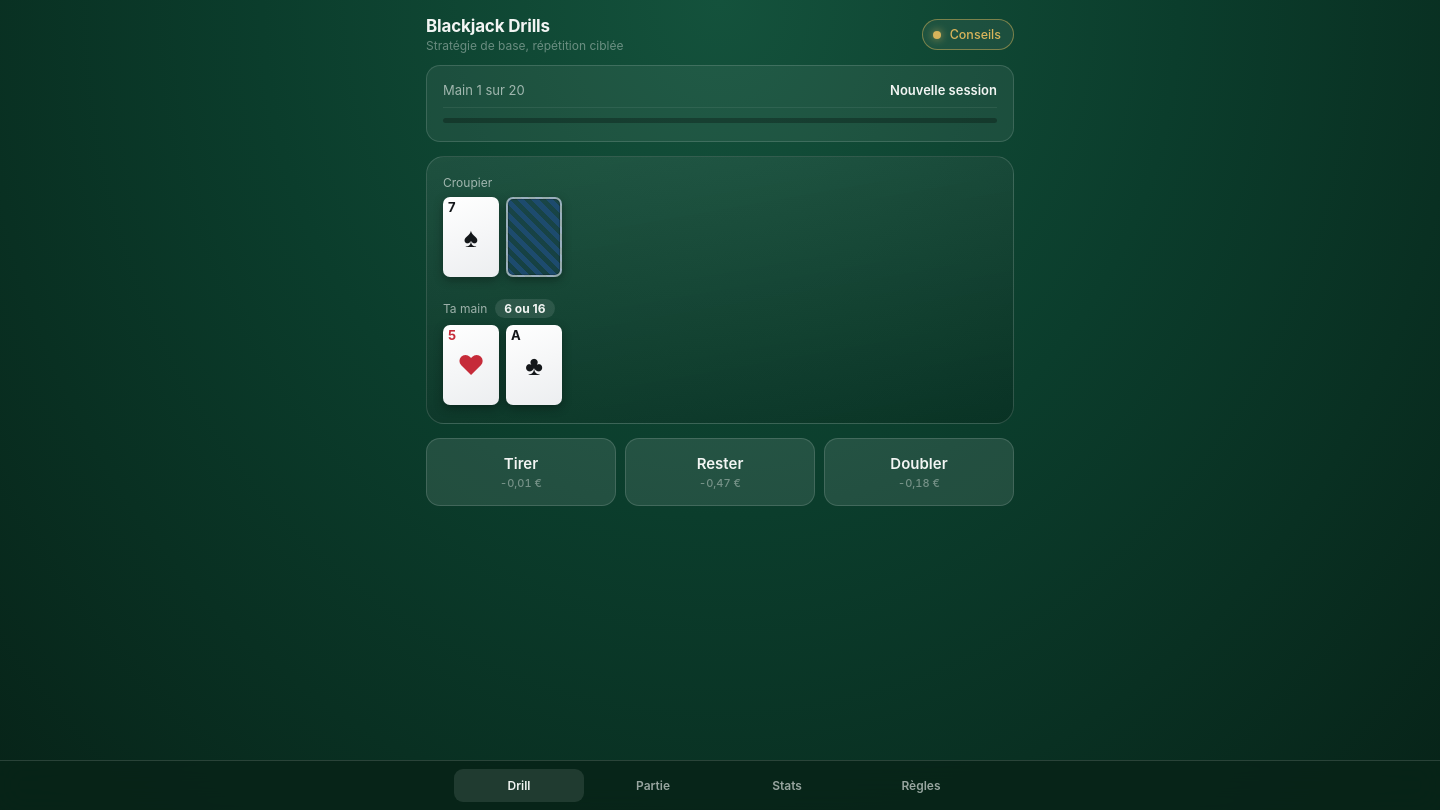
Test: écran de drill › pose une main, corrige la réponse et enchaîne
Expected: the text "Main 1 sur 20" is shown, x1=443 y1=82 x2=525 y2=98
Expected: the text "Croupier" is shown, x1=443 y1=175 x2=492 y2=190
What coordinates should you click on to do the following:
click the button "Tirer -0,01 €"
I would click on:
 (521, 472)
Its box is x1=426 y1=438 x2=616 y2=506.
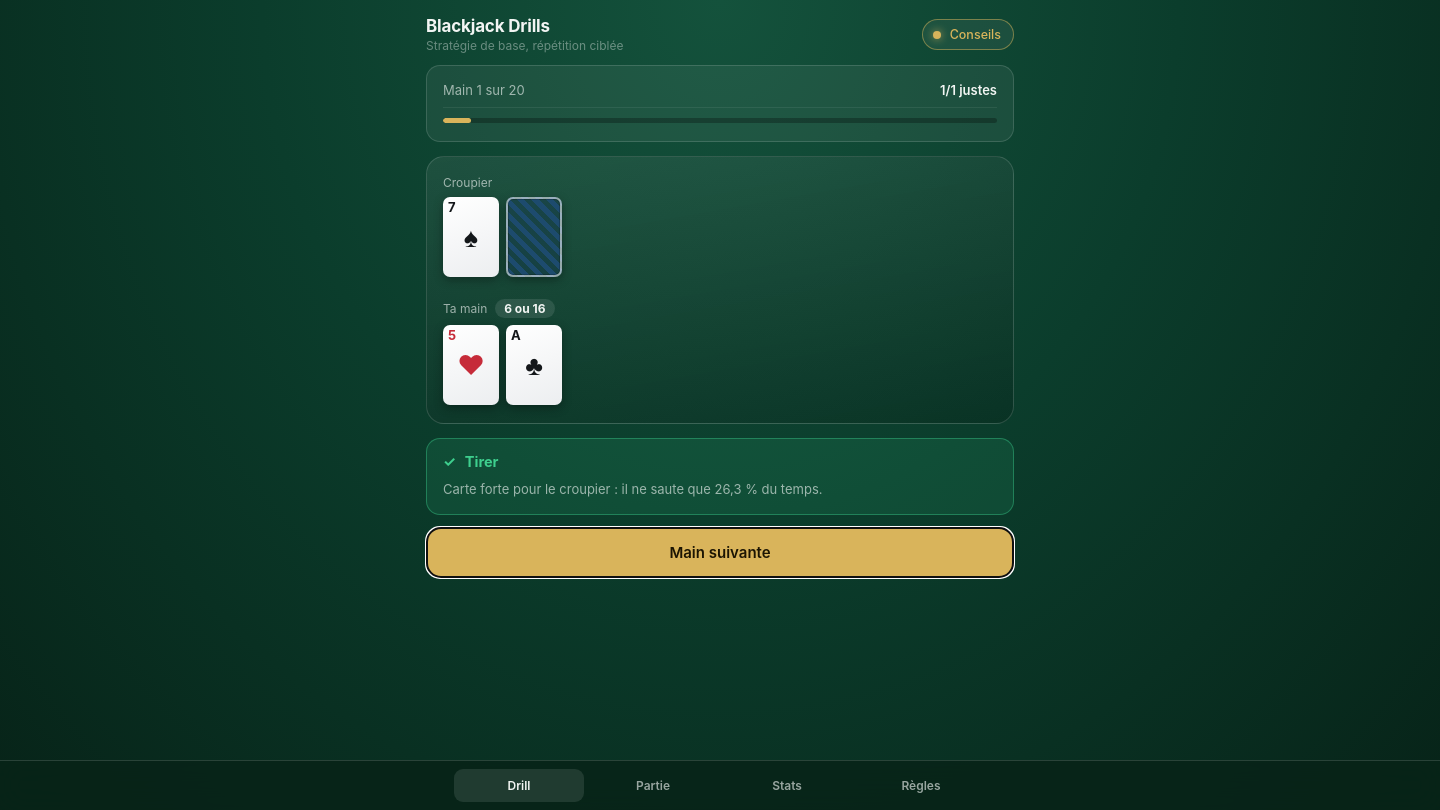
Result: the button "Main suivante" is shown
What coordinates should you click on to do the following:
click the button "Main suivante"
I would click on:
 (720, 552)
Its box is x1=426 y1=527 x2=1014 y2=578.
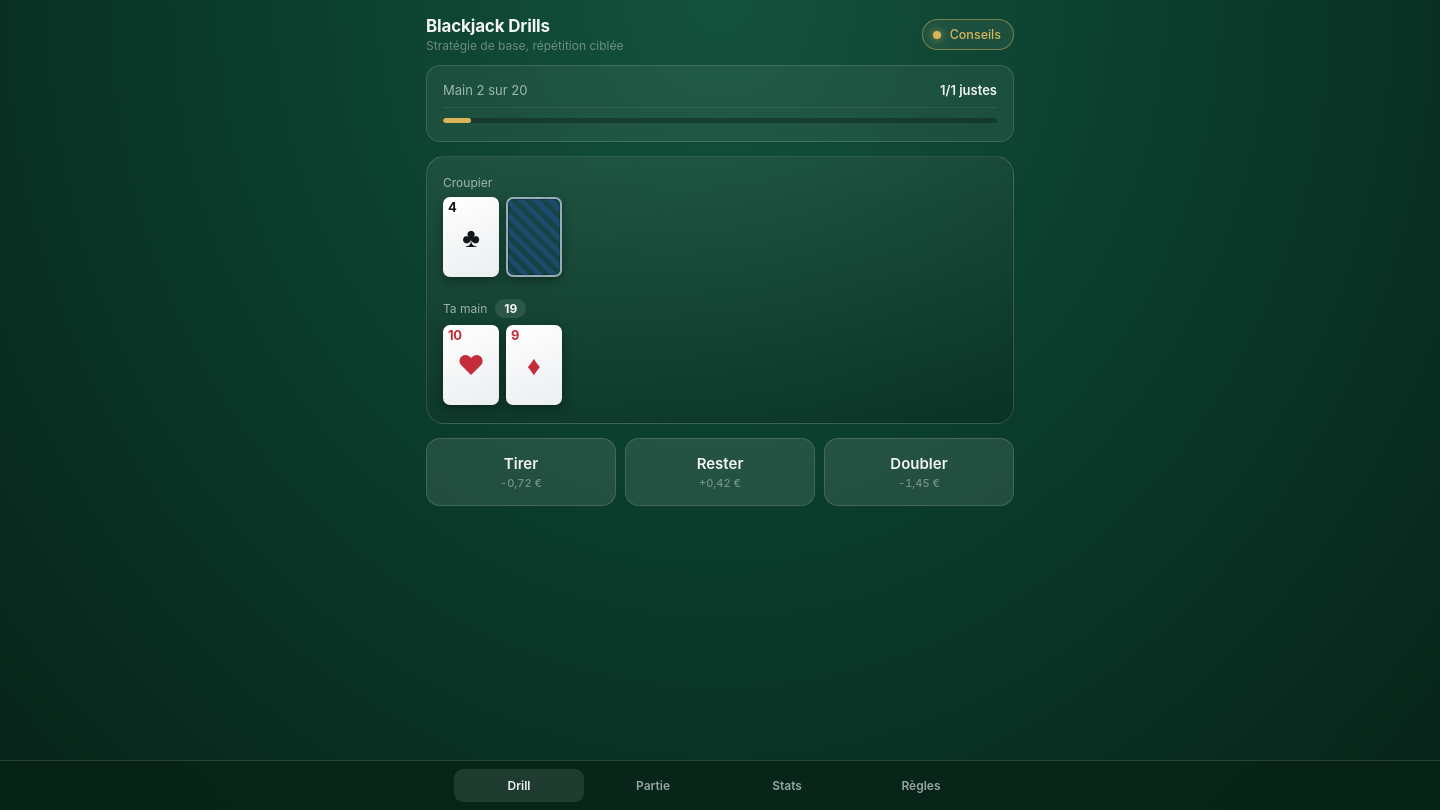
Result: the text "Main 2 sur 20" is shown at x1=443 y1=82 x2=527 y2=98
